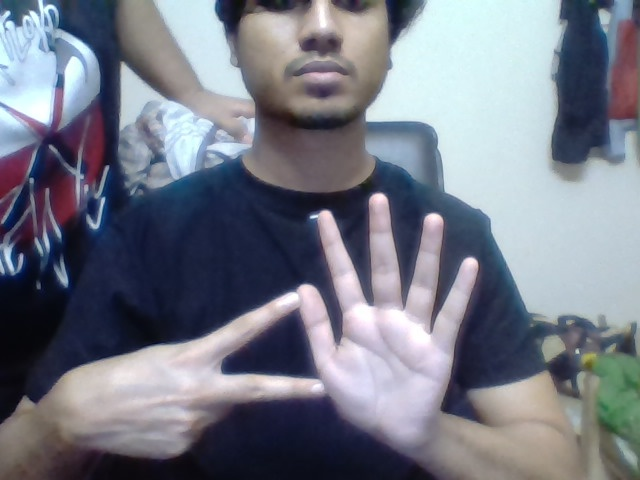N: (210, 286, 300, 412)
